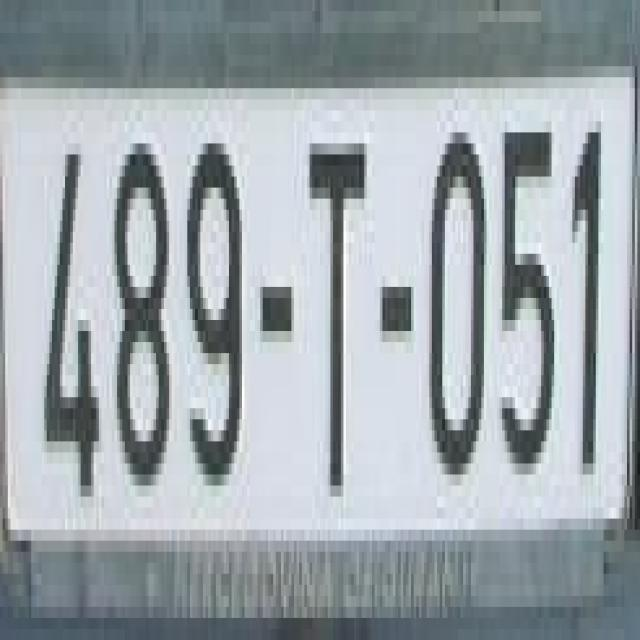0: (427, 110, 484, 486)
1: (572, 132, 606, 486)
4: (36, 144, 112, 540)
5: (499, 121, 552, 496)
8: (112, 143, 169, 508)
9: (182, 122, 239, 486)
T: (304, 100, 370, 474)
